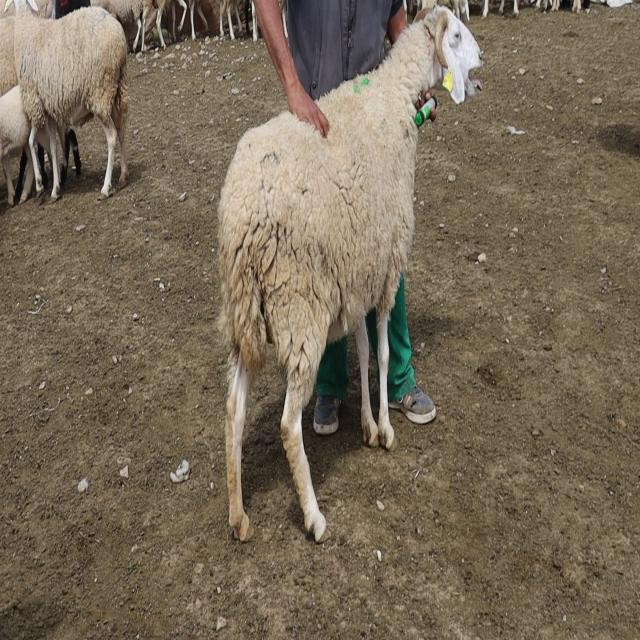Score_3: (218, 5, 482, 541)
